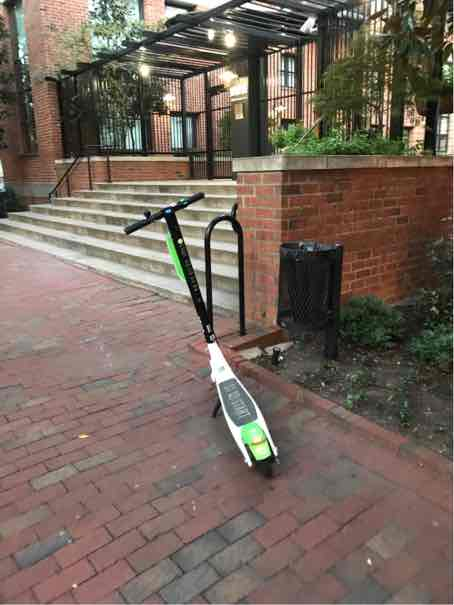scooter: (111, 185, 288, 488)
